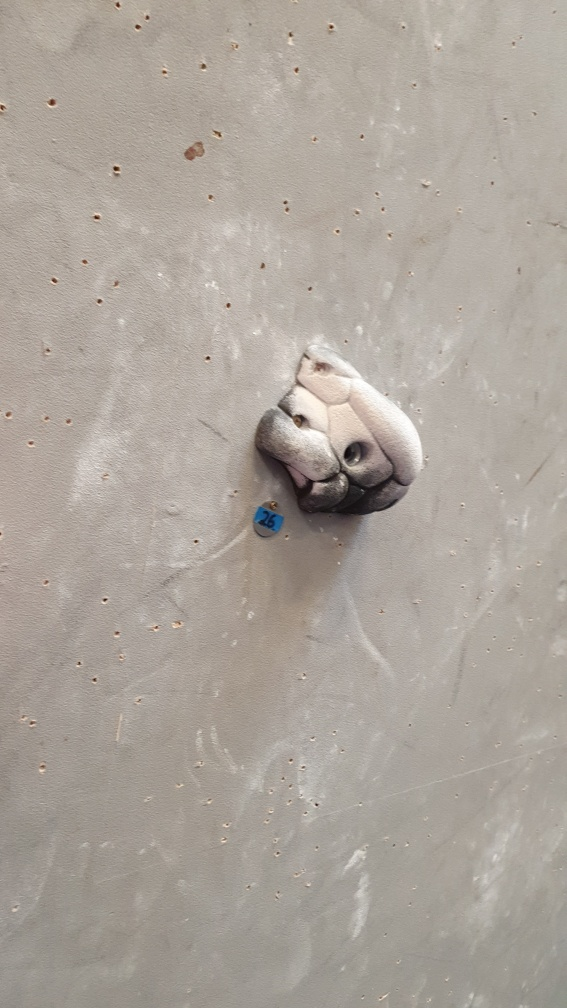Hand Start: (248, 496, 287, 542)
Jug: (252, 342, 428, 521)
